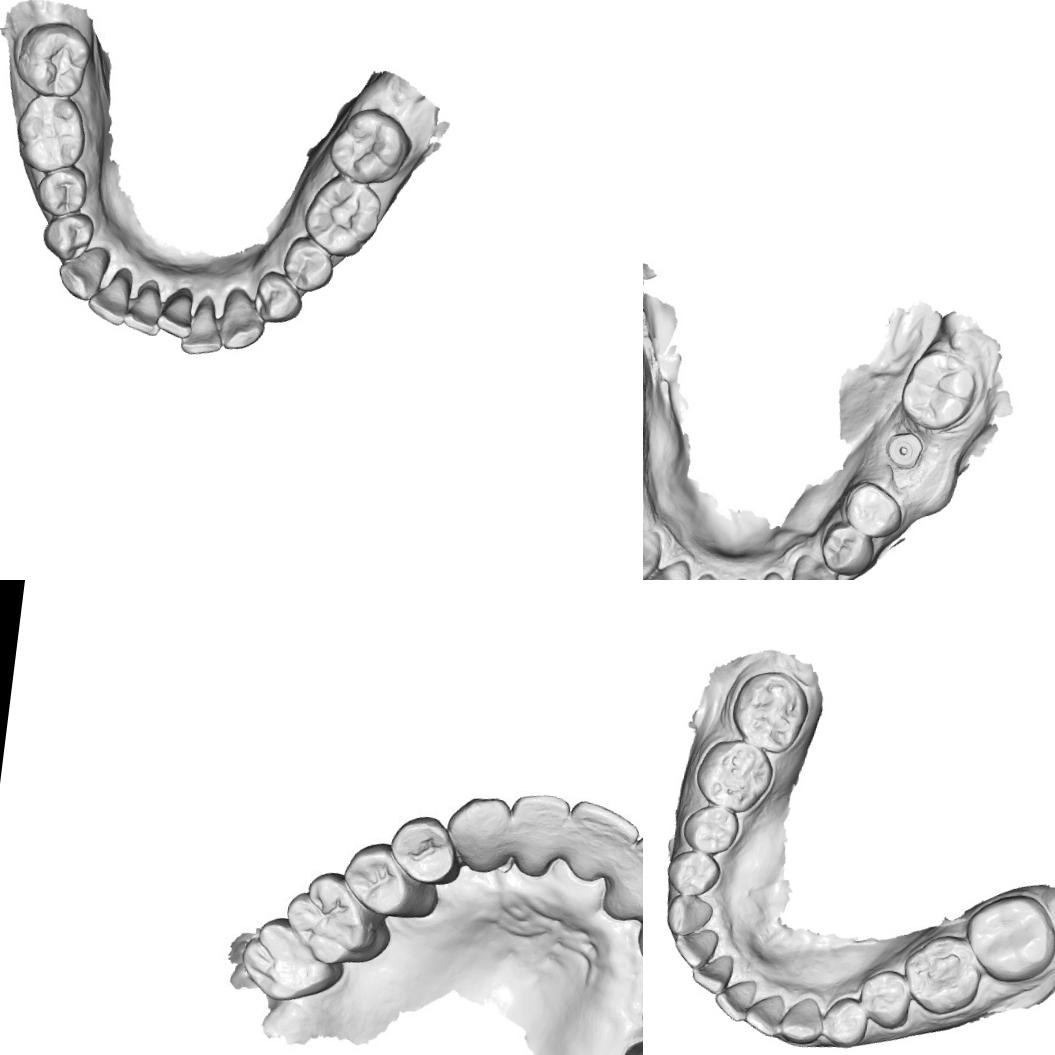canine: (442, 790, 514, 872), (54, 240, 112, 305), (218, 288, 269, 355), (776, 993, 825, 1047), (664, 890, 716, 940), (791, 550, 842, 580), (643, 525, 664, 580)
implant: (880, 426, 926, 474)
incisor: (556, 798, 640, 889), (508, 793, 568, 876), (600, 834, 643, 926), (180, 290, 229, 360), (86, 264, 132, 328), (154, 284, 198, 341), (123, 279, 164, 338), (711, 974, 759, 1024), (671, 924, 720, 972), (741, 990, 788, 1039), (689, 950, 736, 996), (643, 555, 692, 580), (750, 568, 800, 580)
molar: (276, 866, 396, 974), (959, 887, 1055, 990), (241, 914, 344, 1002), (726, 664, 814, 758), (324, 102, 416, 190), (898, 928, 986, 1019), (895, 345, 982, 436), (300, 172, 385, 261), (691, 734, 778, 816), (12, 16, 96, 100), (10, 91, 92, 177)
premolar: (344, 840, 436, 916), (386, 814, 460, 884), (840, 476, 908, 544), (854, 966, 914, 1032), (679, 800, 742, 858), (280, 234, 338, 296), (817, 522, 878, 580), (663, 846, 724, 900), (40, 208, 96, 264), (34, 164, 90, 219), (818, 994, 872, 1050), (253, 269, 306, 326)
